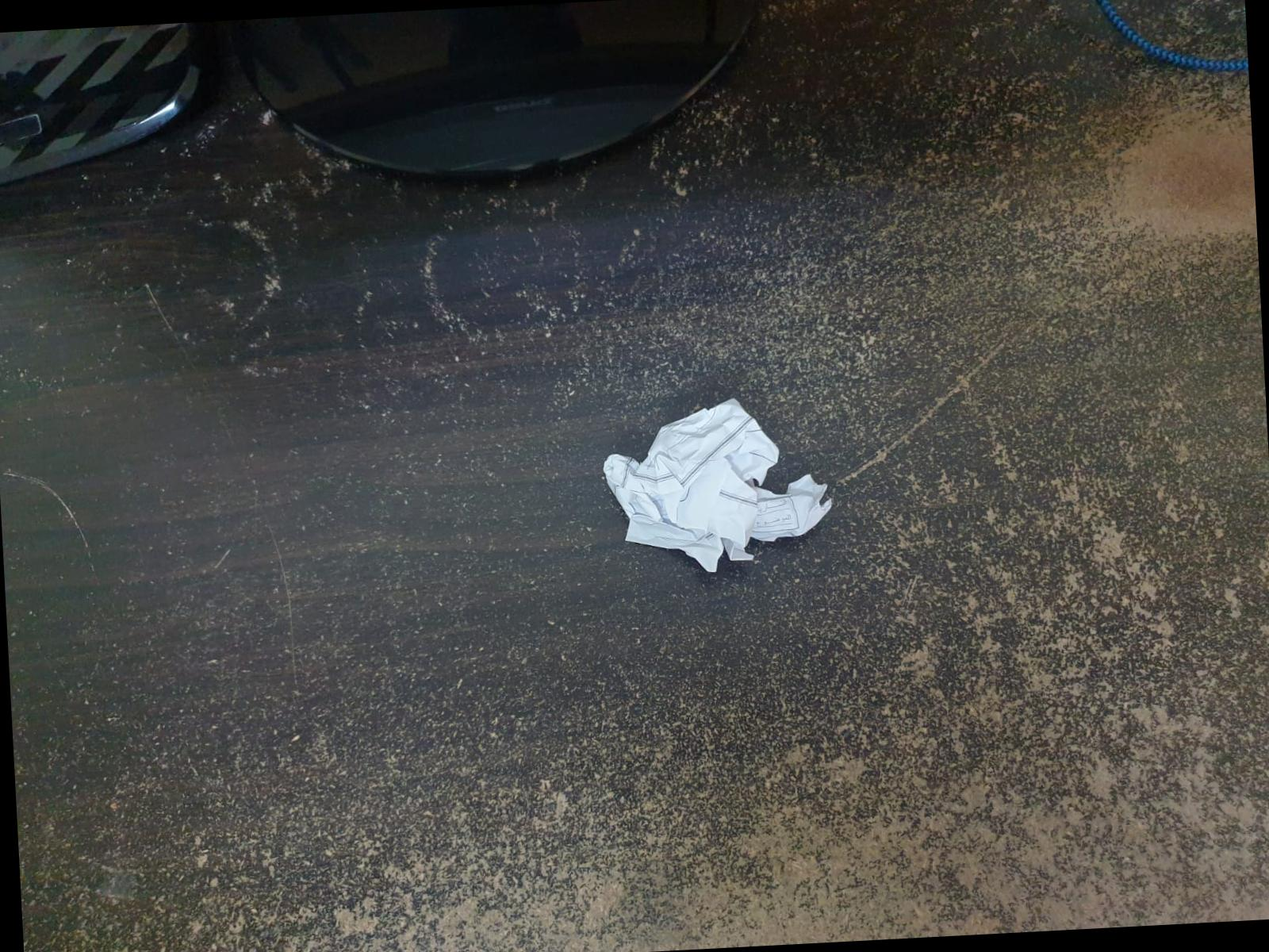Kertas: (604, 399, 831, 572)
